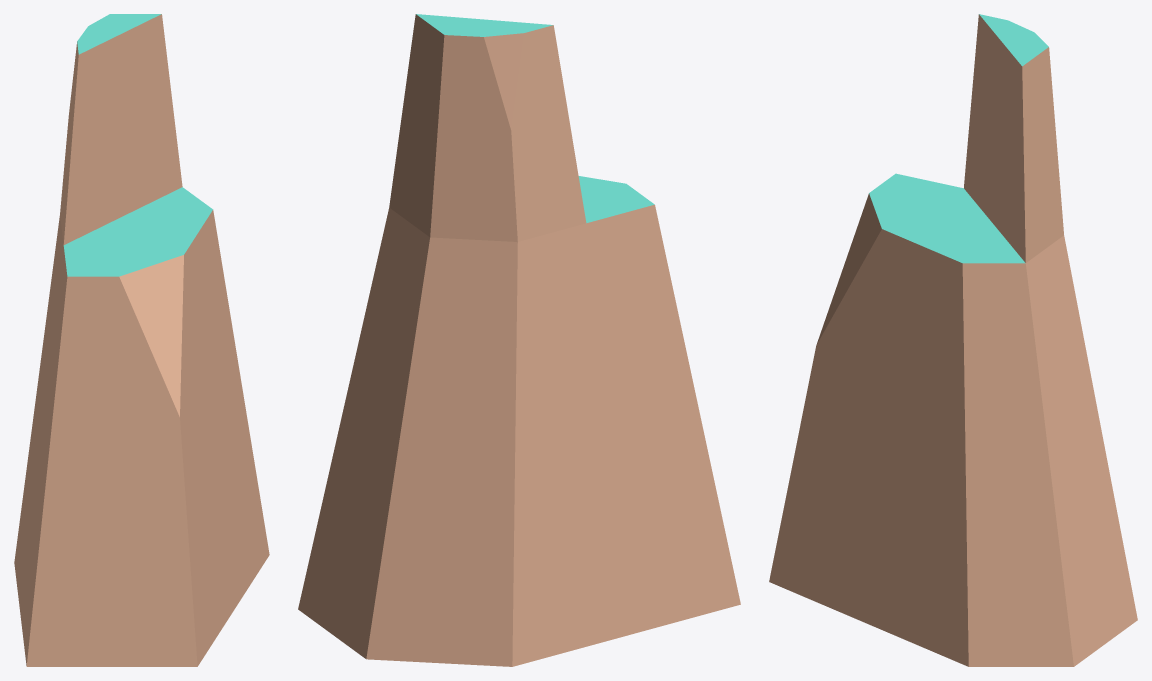
Rendered from rock_tallD.gltf.
The picture shows the model from 3 angles, left to right: view 1: azimuth 30°, elevation 25°; view 2: azimuth 150°, elevation 25°; view 3: azimuth 270°, elevation 25°; orthographic projection. The views are drawn at different scales.
Visible parts, largest first — view 1: rock_tallD; view 2: rock_tallD; view 3: rock_tallD.
Boxes of the visible parts, left/top/right/bottom form: rock_tallD: left=14, top=14, right=269, bottom=666; rock_tallD: left=298, top=14, right=740, bottom=666; rock_tallD: left=769, top=14, right=1137, bottom=666.
Bounding box in the file's own units: 0.4428 × 0.7721 × 0.4615.
